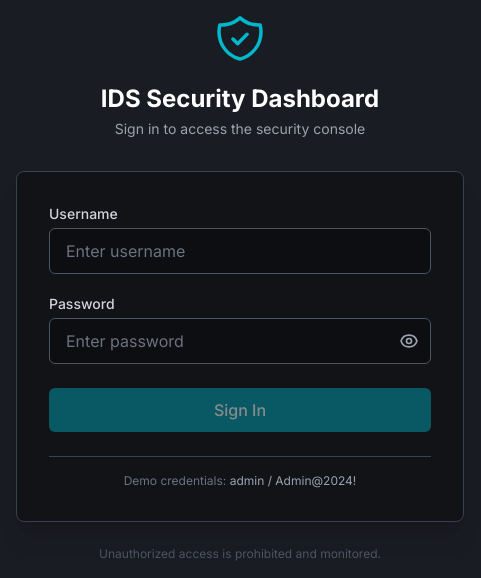
Test case: LoginPage › enables submit when both fields have values
The width and height of the screenshot is (481, 578).
Type "admin" into the field labelled "Username" at x=240, y=250, box [49,228,431,274]
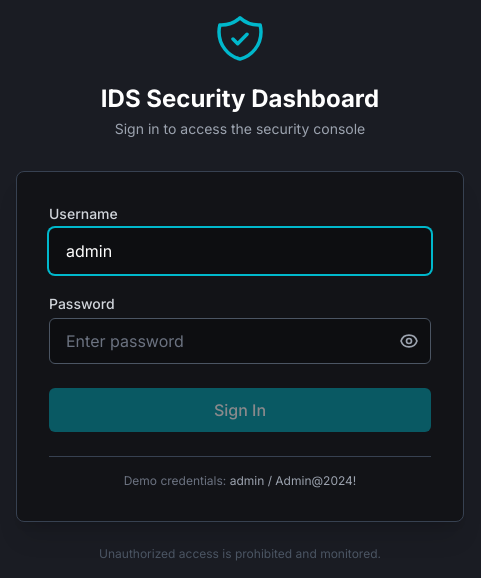
Type "pass" into the password field with placeholder "Enter password" at x=240, y=340, box [49,318,431,364]
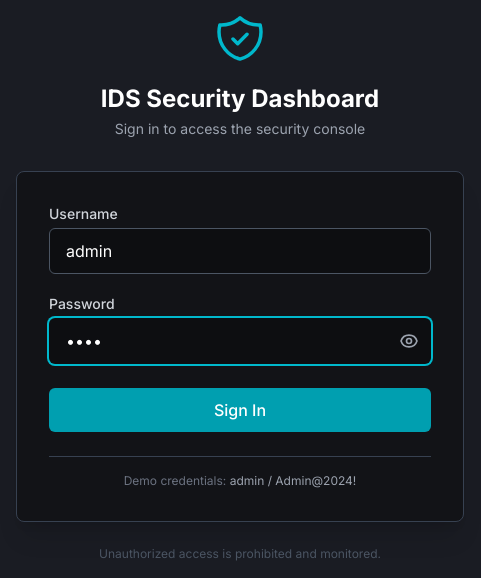
Expected: the button "Sign In" is enabled, [49,388,431,432]
